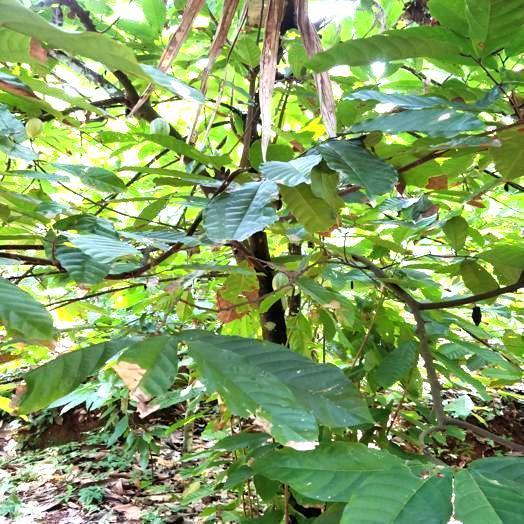Potassium: (182, 337, 317, 453), (115, 335, 177, 414)
